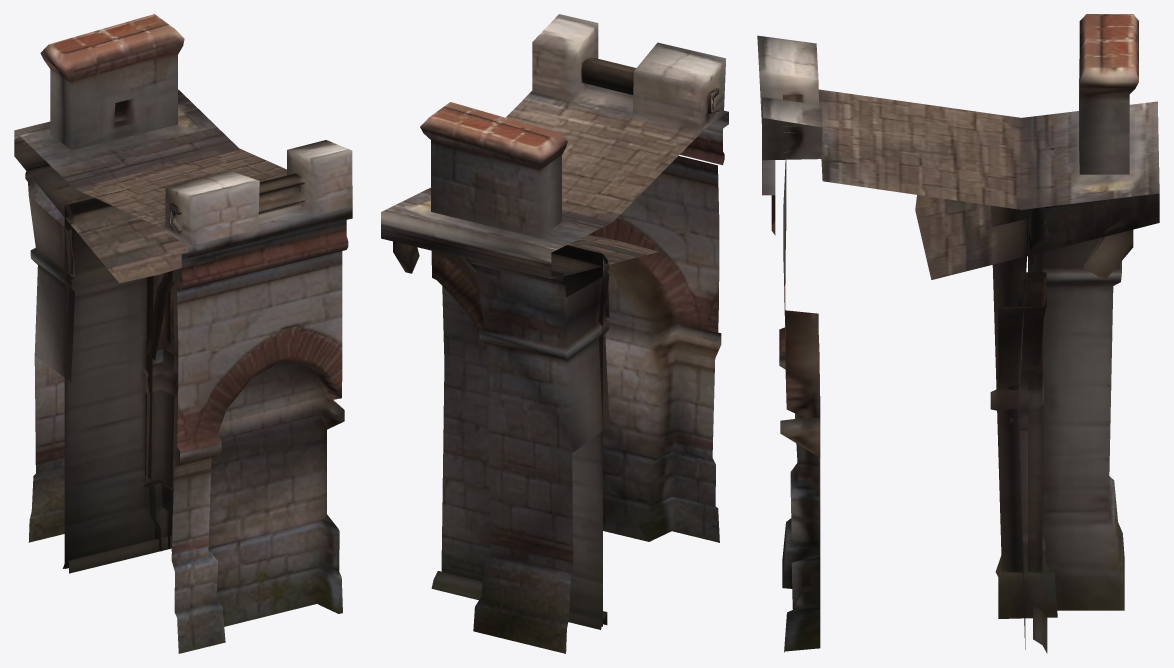
The model's file is WallRunRight_16.fbx.
3 views of the same model, side by side, from view 1: azimuth 30°, elevation 25°; view 2: azimuth 150°, elevation 25°; view 3: azimuth 270°, elevation 25° (orthographic). The views are drawn at different scales.
Parts seen in each view (by area): view 1: Imported wall section.077; view 2: Imported wall section.077; view 3: Imported wall section.077.
Part boxes in pixels (bbox=[...]): Imported wall section.077: bbox=[14, 14, 352, 653]; Imported wall section.077: bbox=[381, 14, 728, 653]; Imported wall section.077: bbox=[757, 14, 1159, 653].
Size of the model in its own units: 200 by 574 by 370.
1 material, 1 textured.
